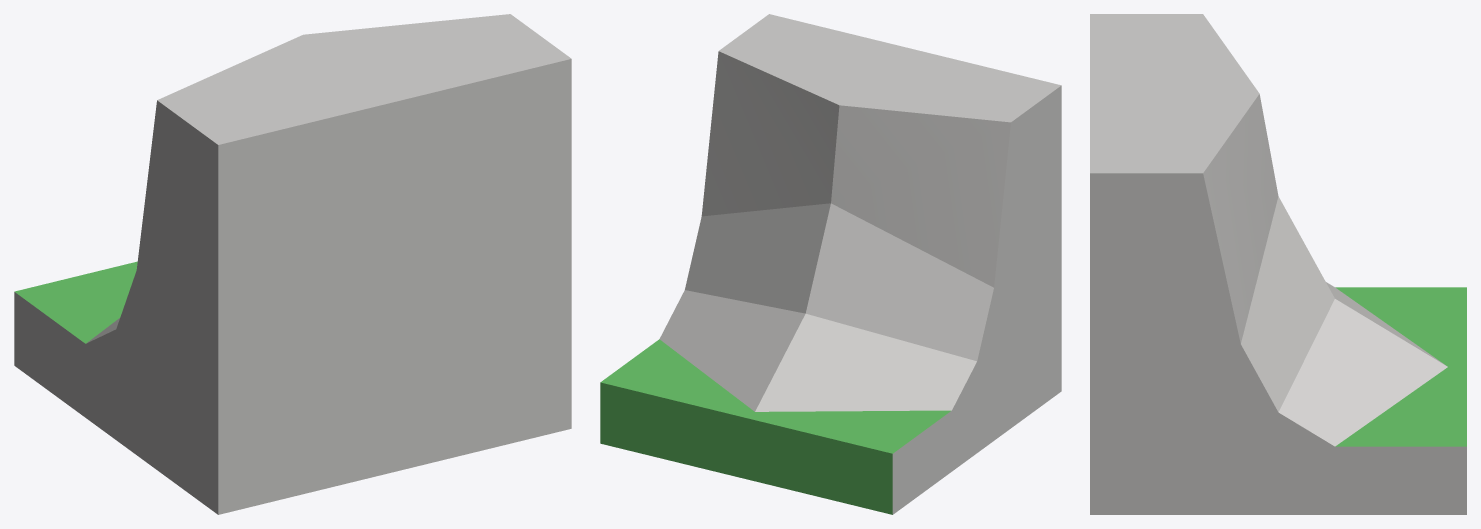
File: Cliff_Base_Straight.glb
3 views of the same model, side by side, from view 1: azimuth 30°, elevation 25°; view 2: azimuth 150°, elevation 25°; view 3: azimuth 270°, elevation 25° (orthographic). The views are drawn at different scales.
Parts seen in each view (by area): view 1: object1; view 2: object1; view 3: object1.
Part boxes in pixels (box(x1,y1,x2,y2)): object1: box(14, 14, 571, 514); object1: box(600, 14, 1061, 514); object1: box(1090, 14, 1466, 514).
Bounding box in the file's own units: 1 × 1 × 1.
